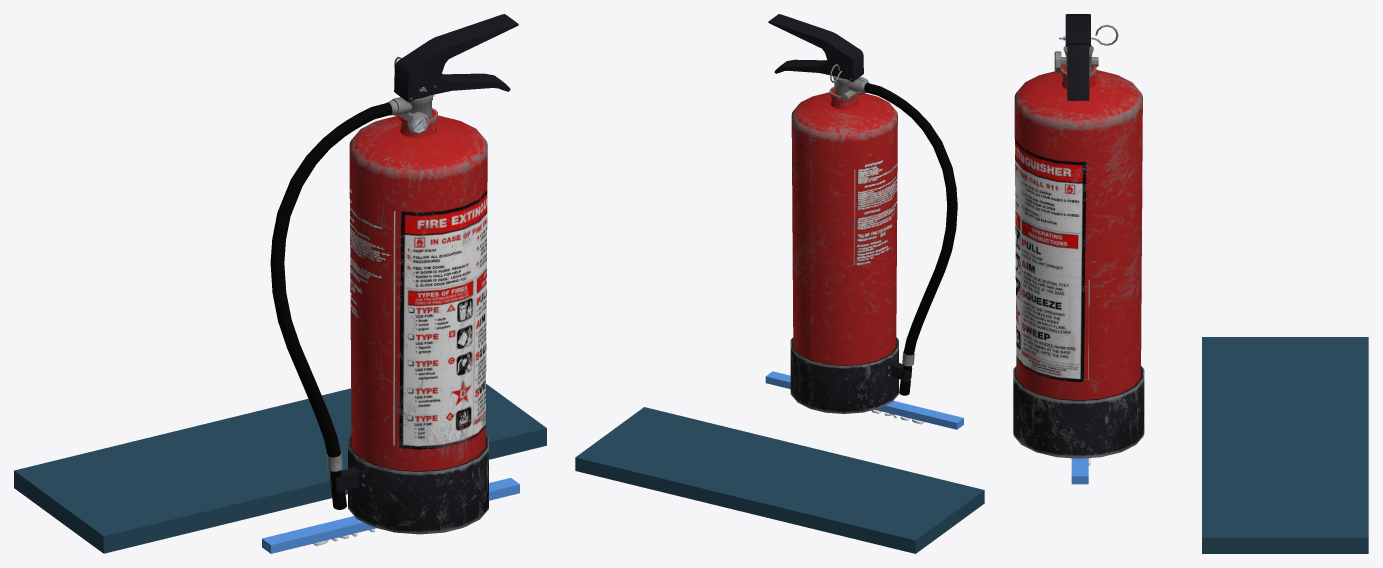
The model's file is extinguisher-dry-powder.glb.
3 views of the same model, side by side, from view 1: azimuth 30°, elevation 25°; view 2: azimuth 150°, elevation 25°; view 3: azimuth 270°, elevation 25° (orthographic). The views are drawn at different scales.
Visible parts, largest first — view 1: Fire_Extinguisher, AR information board, Type colour band; view 2: Fire_Extinguisher, AR information board, Type colour band; view 3: Fire_Extinguisher, AR information board, Type colour band.
Boxes of the visible parts, x1,y1,x2,y2 form: Fire_Extinguisher: [270, 14, 518, 534]; AR information board: [14, 384, 546, 553]; Type colour band: [262, 478, 519, 553]; Fire_Extinguisher: [768, 14, 957, 413]; AR information board: [575, 407, 984, 553]; Type colour band: [765, 371, 963, 429]; Fire_Extinguisher: [1013, 14, 1144, 458]; AR information board: [1202, 337, 1368, 553]; Type colour band: [1071, 458, 1088, 484].
Bounding box in the file's own units: 0.7407 × 0.8082 × 0.5541.
Materials: 4 (1 with a texture image).
